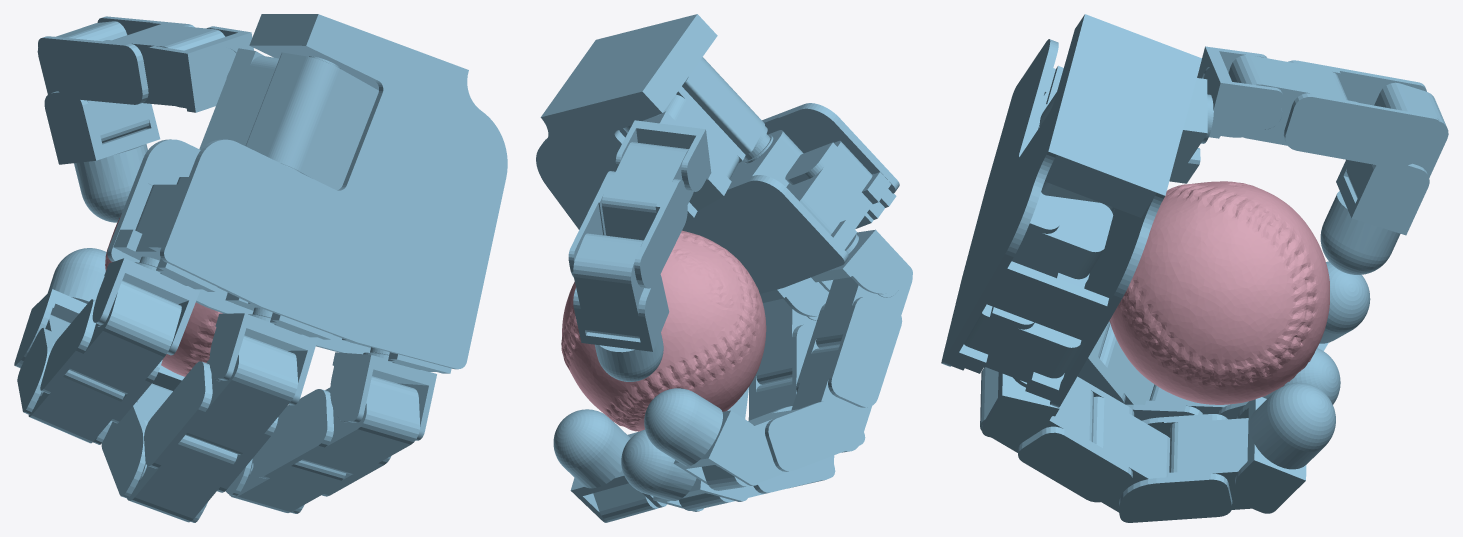
The picture shows the model from 3 angles, left to right: view 1: azimuth 30°, elevation 25°; view 2: azimuth 150°, elevation 25°; view 3: azimuth 270°, elevation 25°; orthographic projection. The views are drawn at different scales.
Visible parts, largest first — view 1: world; view 2: world; view 3: world.
Boxes of the visible parts, x1,y1,x2,y2 form: world: [14, 14, 507, 522]; world: [536, 14, 912, 522]; world: [941, 14, 1448, 522].
Size of the model in its own units: 0.1456 by 0.1814 by 0.1636.
